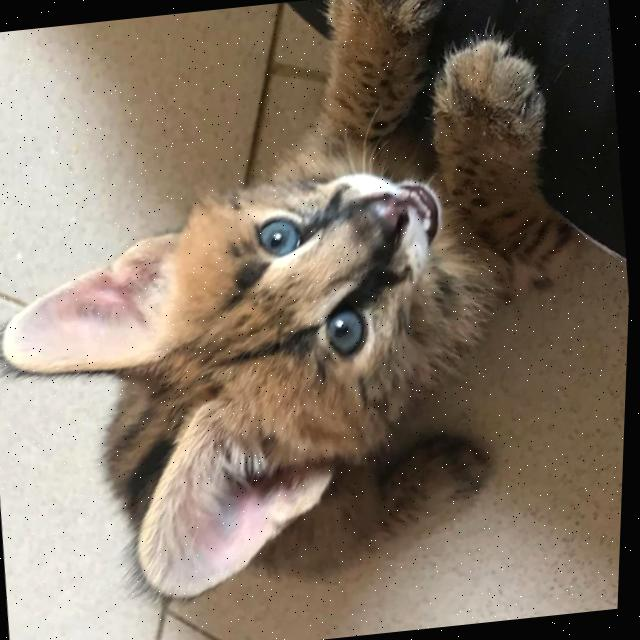Savannah: (0, 0, 620, 624)
